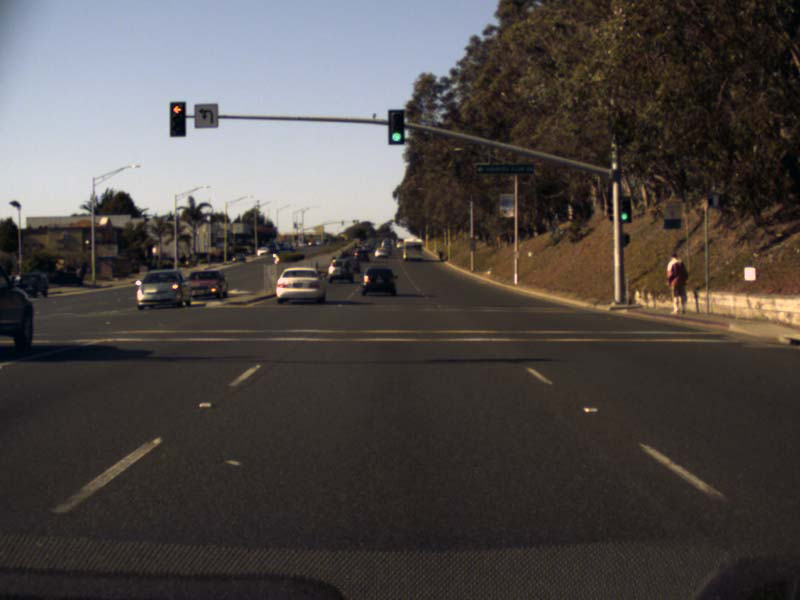Green: (387, 109, 404, 145), (619, 196, 631, 223)
Red: (168, 101, 185, 136)
